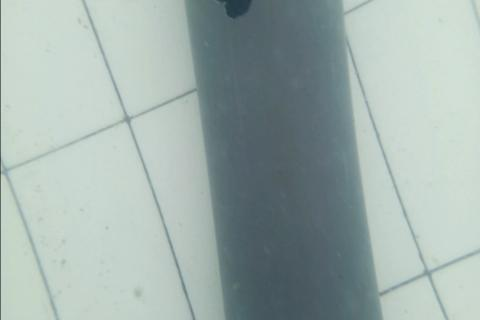kebocoran: (213, 0, 255, 20)
